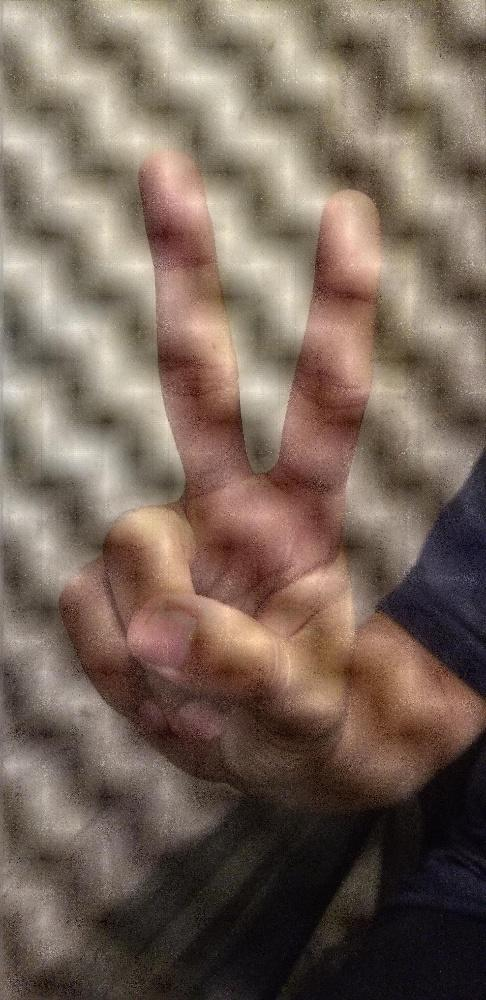v: (62, 144, 385, 787)
